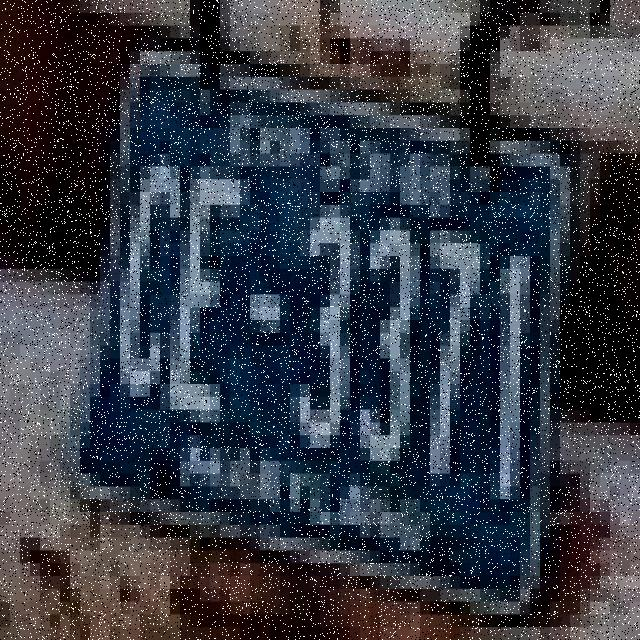licenseplate: (58, 26, 567, 634)
